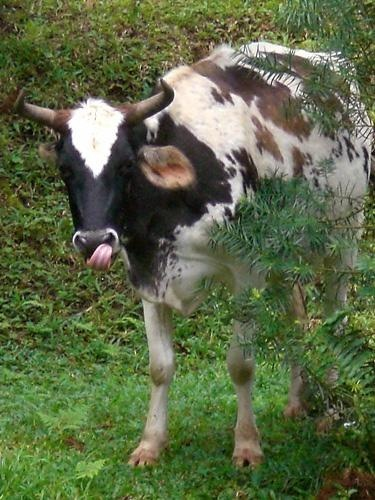cow: (14, 40, 373, 475)
